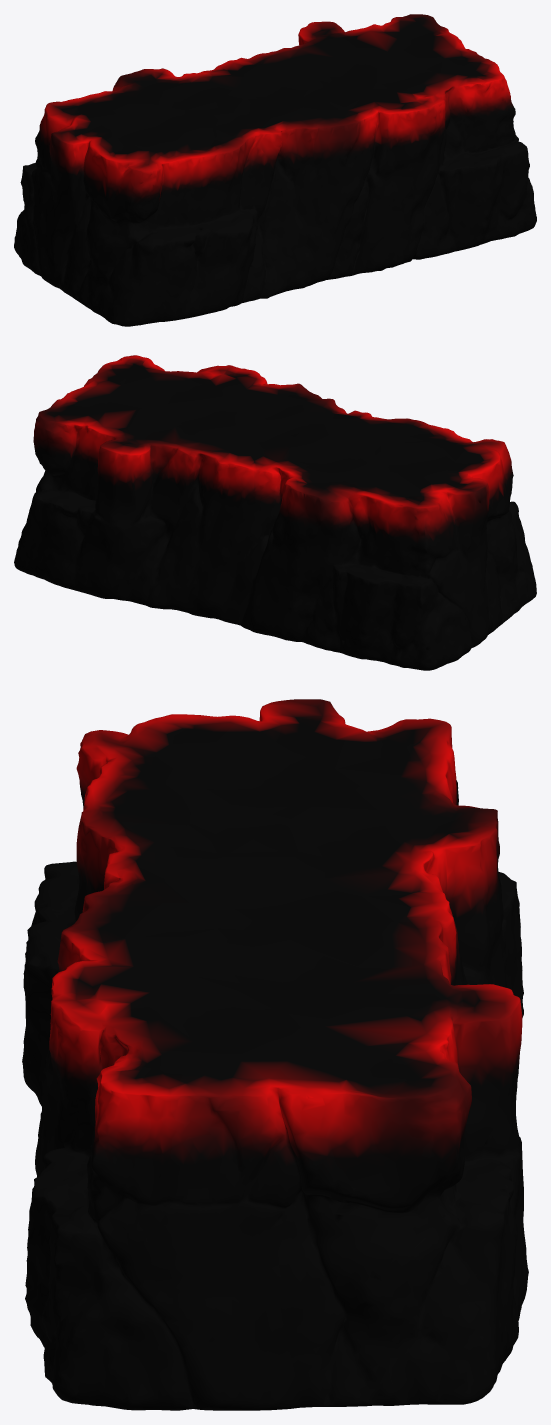
File: OuterBank_07_Weathered.fbx
3 views of the same model, one above another, from view 1: azimuth 30°, elevation 25°; view 2: azimuth 150°, elevation 25°; view 3: azimuth 270°, elevation 25° (orthographic). The views are drawn at different scales.
Parts seen in each view (by area): view 1: OuterBank_07_Weathered; view 2: OuterBank_07_Weathered; view 3: OuterBank_07_Weathered.
Boxes of the visible parts, left/top/right/bottom form: OuterBank_07_Weathered: left=14, top=14, right=536, bottom=326; OuterBank_07_Weathered: left=14, top=355, right=536, bottom=670; OuterBank_07_Weathered: left=22, top=699, right=528, bottom=1410.
Size of the model in its own units: 11000 by 3600 by 5513.
